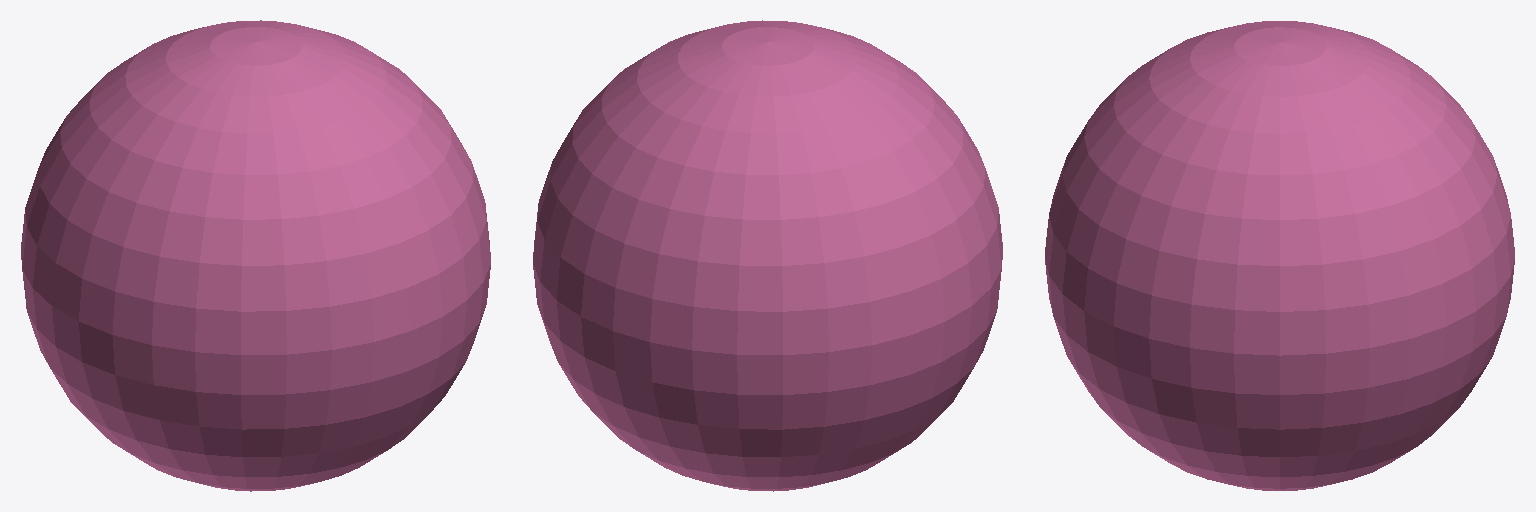
robot.urdf — dummy_arm:
<?xml version="1.0" ?>
<!-- =================================================================================== -->
<!-- |    This document was autogenerated by xacro from ./dummy_arm_full_dof.xacro     | -->
<!-- |    EDITING THIS FILE BY HAND IS NOT RECOMMENDED                                 | -->
<!-- =================================================================================== -->
<robot name="dummy_arm">
  <!-- Create the base link -->
  <link name="arm1_base"/>
  <link name="arm1_linkStart_1"/>
  <link name="arm1_linkEnd_1">
    <visual>
      <geometry>
        <mesh filename="meshes/single_segment.dae" scale="0.0006 0.0006 0.00030000000000000003"/>
      </geometry>
      <origin xyz="0 0 0.015"/>
    </visual>
    <collision>
      <geometry>
        <cylinder length="0.03" radius="0.01"/>
      </geometry>
      <origin xyz="0 0 0.015"/>
    </collision>
    <inertial>
      <mass value="0.09090909090909091"/>
      <inertia ixx="9.090909090909091e-06" ixy="0.0" ixz="0.0" iyy="9.090909090909091e-06" iyz="0.0" izz="4.5454545454545455e-06"/>
    </inertial>
  </link>
  <joint name="arm1_joint0_1" type="revolute">
    <parent link="arm1_base"/>
    <child link="arm1_linkStart_1"/>
    <axis xyz="1 0 0"/>
    <origin rpy="3.141 0 -0.7854" xyz=" 0.0 0.0 0"/>
    <limit effort="10.0" lower="-1.57" upper="1.57" velocity="1.0"/>
  </joint>
  <joint name="arm1_joint1_1" type="revolute">
    <parent link="arm1_linkStart_1"/>
    <child link="arm1_linkEnd_1"/>
    <axis xyz="0 1 0"/>
    <origin rpy="0 0 0" xyz="0 0 0"/>
    <limit effort="10.0" lower="-1.57" upper="1.57" velocity="1.0"/>
  </joint>
  <!-- Create the next link -->
  <link name="arm1_linkEnd_2">
    <visual>
      <geometry>
        <mesh filename="meshes/single_segment.dae" scale="0.0006 0.0006 0.00030000000000000003"/>
      </geometry>
      <origin xyz="0 0 0.015"/>
    </visual>
    <collision>
      <geometry>
        <cylinder length="0.03" radius="0.01"/>
      </geometry>
      <origin xyz="0 0 0.015"/>
    </collision>
    <inertial>
      <mass value="0.09090909090909091"/>
      <inertia ixx="9.090909090909091e-06" ixy="0.0" ixz="0.0" iyy="9.090909090909091e-06" iyz="0.0" izz="4.5454545454545455e-06"/>
    </inertial>
  </link>
  <!-- Create helper Links -->
  <link name="arm1_linkStart_2"/>
  <link name="arm1_linkMid_2"/>
  <!-- Create the prismatic joint -->
  <joint name="arm1_joint0_2" type="prismatic">
    <parent link="arm1_linkEnd_1"/>
    <child link="arm1_linkStart_2"/>
    <axis xyz="0 0 1"/>
    <origin rpy="0 0 0" xyz="0 0 0.03"/>
    <limit effort="10.0" lower="-0.015" upper="0" velocity="1.0"/>
  </joint>
  <!-- Create the revolute first revolute joint -->
  <joint name="arm1_joint1_2" type="revolute">
    <parent link="arm1_linkStart_2"/>
    <child link="arm1_linkMid_2"/>
    <axis xyz="0 1 0"/>
    <origin rpy="0 0 0" xyz="0 0 0"/>
    <limit effort="10.0" lower="-1.57" upper="1.57" velocity="1.0"/>
  </joint>
  <!-- Create the revolute joint -->
  <joint name="arm1_joint2_2" type="revolute">
    <parent link="arm1_linkMid_2"/>
    <child link="arm1_linkEnd_2"/>
    <axis xyz="1 0 0"/>
    <origin rpy="0 0 0" xyz="0 0 0"/>
    <limit effort="10.0" lower="-1.57" upper="1.57" velocity="1.0"/>
  </joint>
  <!-- Create the next link -->
  <link name="arm1_linkEnd_3">
    <visual>
      <geometry>
        <mesh filename="meshes/single_segment.dae" scale="0.0006 0.0006 0.00030000000000000003"/>
      </geometry>
      <origin xyz="0 0 0.015"/>
    </visual>
    <collision>
      <geometry>
        <cylinder length="0.03" radius="0.01"/>
      </geometry>
      <origin xyz="0 0 0.015"/>
    </collision>
    <inertial>
      <mass value="0.09090909090909091"/>
      <inertia ixx="9.090909090909091e-06" ixy="0.0" ixz="0.0" iyy="9.090909090909091e-06" iyz="0.0" izz="4.5454545454545455e-06"/>
    </inertial>
  </link>
  <!-- Create helper Links -->
  <link name="arm1_linkStart_3"/>
  <link name="arm1_linkMid_3"/>
  <!-- Create the prismatic joint -->
  <joint name="arm1_joint0_3" type="prismatic">
    <parent link="arm1_linkEnd_2"/>
    <child link="arm1_linkStart_3"/>
    <axis xyz="0 0 1"/>
    <origin rpy="0 0 0" xyz="0 0 0.03"/>
    <limit effort="10.0" lower="-0.015" upper="0" velocity="1.0"/>
  </joint>
  <!-- Create the revolute first revolute joint -->
  <joint name="arm1_joint1_3" type="revolute">
    <parent link="arm1_linkStart_3"/>
    <child link="arm1_linkMid_3"/>
    <axis xyz="0 1 0"/>
    <origin rpy="0 0 0" xyz="0 0 0"/>
    <limit effort="10.0" lower="-1.57" upper="1.57" velocity="1.0"/>
  </joint>
  <!-- Create the revolute joint -->
  <joint name="arm1_joint2_3" type="revolute">
    <parent link="arm1_linkMid_3"/>
    <child link="arm1_linkEnd_3"/>
    <axis xyz="1 0 0"/>
    <origin rpy="0 0 0" xyz="0 0 0"/>
    <limit effort="10.0" lower="-1.57" upper="1.57" velocity="1.0"/>
  </joint>
  <!-- Create the next link -->
  <link name="arm1_linkEnd_4">
    <visual>
      <geometry>
        <mesh filename="meshes/single_segment.dae" scale="0.0006 0.0006 0.00030000000000000003"/>
      </geometry>
      <origin xyz="0 0 0.015"/>
    </visual>
    <collision>
      <geometry>
        <cylinder length="0.03" radius="0.01"/>
      </geometry>
      <origin xyz="0 0 0.015"/>
    </collision>
    <inertial>
      <mass value="0.09090909090909091"/>
      <inertia ixx="9.090909090909091e-06" ixy="0.0" ixz="0.0" iyy="9.090909090909091e-06" iyz="0.0" izz="4.5454545454545455e-06"/>
    </inertial>
  </link>
  <!-- Create helper Links -->
  <link name="arm1_linkStart_4"/>
  <link name="arm1_linkMid_4"/>
  <!-- Create the prismatic joint -->
  <joint name="arm1_joint0_4" type="prismatic">
    <parent link="arm1_linkEnd_3"/>
    <child link="arm1_linkStart_4"/>
    <axis xyz="0 0 1"/>
    <origin rpy="0 0 0" xyz="0 0 0.03"/>
    <limit effort="10.0" lower="-0.015" upper="0" velocity="1.0"/>
  </joint>
  <!-- Create the revolute first revolute joint -->
  <joint name="arm1_joint1_4" type="revolute">
    <parent link="arm1_linkStart_4"/>
    <child link="arm1_linkMid_4"/>
    <axis xyz="0 1 0"/>
    <origin rpy="0 0 0" xyz="0 0 0"/>
    <limit effort="10.0" lower="-1.57" upper="1.57" velocity="1.0"/>
  </joint>
  <!-- Create the revolute joint -->
  <joint name="arm1_joint2_4" type="revolute">
    <parent link="arm1_linkMid_4"/>
    <child link="arm1_linkEnd_4"/>
    <axis xyz="1 0 0"/>
    <origin rpy="0 0 0" xyz="0 0 0"/>
    <limit effort="10.0" lower="-1.57" upper="1.57" velocity="1.0"/>
  </joint>
  <!-- Create the next link -->
  <link name="arm1_linkEnd_5">
    <visual>
      <geometry>
        <mesh filename="meshes/single_segment.dae" scale="0.0006 0.0006 0.00030000000000000003"/>
      </geometry>
      <origin xyz="0 0 0.015"/>
    </visual>
    <collision>
      <geometry>
        <cylinder length="0.03" radius="0.01"/>
      </geometry>
      <origin xyz="0 0 0.015"/>
    </collision>
    <inertial>
      <mass value="0.09090909090909091"/>
      <inertia ixx="9.090909090909091e-06" ixy="0.0" ixz="0.0" iyy="9.090909090909091e-06" iyz="0.0" izz="4.5454545454545455e-06"/>
    </inertial>
  </link>
  <!-- Create helper Links -->
  <link name="arm1_linkStart_5"/>
  <link name="arm1_linkMid_5"/>
  <!-- Create the prismatic joint -->
  <joint name="arm1_joint0_5" type="prismatic">
    <parent link="arm1_linkEnd_4"/>
    <child link="arm1_linkStart_5"/>
    <axis xyz="0 0 1"/>
    <origin rpy="0 0 0" xyz="0 0 0.03"/>
    <limit effort="10.0" lower="-0.015" upper="0" velocity="1.0"/>
  </joint>
  <!-- Create the revolute first revolute joint -->
  <joint name="arm1_joint1_5" type="revolute">
    <parent link="arm1_linkStart_5"/>
    <child link="arm1_linkMid_5"/>
    <axis xyz="0 1 0"/>
    <origin rpy="0 0 0" xyz="0 0 0"/>
    <limit effort="10.0" lower="-1.57" upper="1.57" velocity="1.0"/>
  </joint>
  <!-- Create the revolute joint -->
  <joint name="arm1_joint2_5" type="revolute">
    <parent link="arm1_linkMid_5"/>
    <child link="arm1_linkEnd_5"/>
    <axis xyz="1 0 0"/>
    <origin rpy="0 0 0" xyz="0 0 0"/>
    <limit effort="10.0" lower="-1.57" upper="1.57" velocity="1.0"/>
  </joint>
  <!-- Create the next link -->
  <link name="arm1_linkEnd_6">
    <visual>
      <geometry>
        <mesh filename="meshes/single_segment.dae" scale="0.0006 0.0006 0.00030000000000000003"/>
      </geometry>
      <origin xyz="0 0 0.015"/>
    </visual>
    <collision>
      <geometry>
        <cylinder length="0.03" radius="0.01"/>
      </geometry>
      <origin xyz="0 0 0.015"/>
    </collision>
    <inertial>
      <mass value="0.09090909090909091"/>
      <inertia ixx="9.090909090909091e-06" ixy="0.0" ixz="0.0" iyy="9.090909090909091e-06" iyz="0.0" izz="4.5454545454545455e-06"/>
    </inertial>
  </link>
  <!-- Create helper Links -->
  <link name="arm1_linkStart_6"/>
  <link name="arm1_linkMid_6"/>
  <!-- Create the prismatic joint -->
  <joint name="arm1_joint0_6" type="prismatic">
    <parent link="arm1_linkEnd_5"/>
    <child link="arm1_linkStart_6"/>
    <axis xyz="0 0 1"/>
    <origin rpy="0 0 0" xyz="0 0 0.03"/>
    <limit effort="10.0" lower="-0.015" upper="0" velocity="1.0"/>
  </joint>
  <!-- Create the revolute first revolute joint -->
  <joint name="arm1_joint1_6" type="revolute">
    <parent link="arm1_linkStart_6"/>
    <child link="arm1_linkMid_6"/>
    <axis xyz="0 1 0"/>
    <origin rpy="0 0 0" xyz="0 0 0"/>
    <limit effort="10.0" lower="-1.57" upper="1.57" velocity="1.0"/>
  </joint>
  <!-- Create the revolute joint -->
  <joint name="arm1_joint2_6" type="revolute">
    <parent link="arm1_linkMid_6"/>
    <child link="arm1_linkEnd_6"/>
    <axis xyz="1 0 0"/>
    <origin rpy="0 0 0" xyz="0 0 0"/>
    <limit effort="10.0" lower="-1.57" upper="1.57" velocity="1.0"/>
  </joint>
  <!-- Create the next link -->
  <link name="arm1_linkEnd_7">
    <visual>
      <geometry>
        <mesh filename="meshes/single_segment.dae" scale="0.0006 0.0006 0.00030000000000000003"/>
      </geometry>
      <origin xyz="0 0 0.015"/>
    </visual>
    <collision>
      <geometry>
        <cylinder length="0.03" radius="0.01"/>
      </geometry>
      <origin xyz="0 0 0.015"/>
    </collision>
    <inertial>
      <mass value="0.09090909090909091"/>
      <inertia ixx="9.090909090909091e-06" ixy="0.0" ixz="0.0" iyy="9.090909090909091e-06" iyz="0.0" izz="4.5454545454545455e-06"/>
    </inertial>
  </link>
  <!-- Create helper Links -->
  <link name="arm1_linkStart_7"/>
  <link name="arm1_linkMid_7"/>
  <!-- Create the prismatic joint -->
  <joint name="arm1_joint0_7" type="prismatic">
    <parent link="arm1_linkEnd_6"/>
    <child link="arm1_linkStart_7"/>
    <axis xyz="0 0 1"/>
    <origin rpy="0 0 0" xyz="0 0 0.03"/>
    <limit effort="10.0" lower="-0.015" upper="0" velocity="1.0"/>
  </joint>
  <!-- Create the revolute first revolute joint -->
  <joint name="arm1_joint1_7" type="revolute">
    <parent link="arm1_linkStart_7"/>
    <child link="arm1_linkMid_7"/>
    <axis xyz="0 1 0"/>
    <origin rpy="0 0 0" xyz="0 0 0"/>
    <limit effort="10.0" lower="-1.57" upper="1.57" velocity="1.0"/>
  </joint>
  <!-- Create the revolute joint -->
  <joint name="arm1_joint2_7" type="revolute">
    <parent link="arm1_linkMid_7"/>
    <child link="arm1_linkEnd_7"/>
    <axis xyz="1 0 0"/>
    <origin rpy="0 0 0" xyz="0 0 0"/>
    <limit effort="10.0" lower="-1.57" upper="1.57" velocity="1.0"/>
  </joint>
  <!-- Create the next link -->
  <link name="arm1_linkEnd_8">
    <visual>
      <geometry>
        <mesh filename="meshes/single_segment.dae" scale="0.0006 0.0006 0.00030000000000000003"/>
      </geometry>
      <origin xyz="0 0 0.015"/>
    </visual>
    <collision>
      <geometry>
        <cylinder length="0.03" radius="0.01"/>
      </geometry>
      <origin xyz="0 0 0.015"/>
    </collision>
    <inertial>
      <mass value="0.09090909090909091"/>
      <inertia ixx="9.090909090909091e-06" ixy="0.0" ixz="0.0" iyy="9.090909090909091e-06" iyz="0.0" izz="4.5454545454545455e-06"/>
    </inertial>
  </link>
  <!-- Create helper Links -->
  <link name="arm1_linkStart_8"/>
  <link name="arm1_linkMid_8"/>
  <!-- Create the prismatic joint -->
  <joint name="arm1_joint0_8" type="prismatic">
    <parent link="arm1_linkEnd_7"/>
    <child link="arm1_linkStart_8"/>
    <axis xyz="0 0 1"/>
    <origin rpy="0 0 0" xyz="0 0 0.03"/>
    <limit effort="10.0" lower="-0.015" upper="0" velocity="1.0"/>
  </joint>
  <!-- Create the revolute first revolute joint -->
  <joint name="arm1_joint1_8" type="revolute">
    <parent link="arm1_linkStart_8"/>
    <child link="arm1_linkMid_8"/>
    <axis xyz="0 1 0"/>
    <origin rpy="0 0 0" xyz="0 0 0"/>
    <limit effort="10.0" lower="-1.57" upper="1.57" velocity="1.0"/>
  </joint>
  <!-- Create the revolute joint -->
  <joint name="arm1_joint2_8" type="revolute">
    <parent link="arm1_linkMid_8"/>
    <child link="arm1_linkEnd_8"/>
    <axis xyz="1 0 0"/>
    <origin rpy="0 0 0" xyz="0 0 0"/>
    <limit effort="10.0" lower="-1.57" upper="1.57" velocity="1.0"/>
  </joint>
  <!-- Create the next link -->
  <link name="arm1_linkEnd_9">
    <visual>
      <geometry>
        <mesh filename="meshes/single_segment.dae" scale="0.0006 0.0006 0.00030000000000000003"/>
      </geometry>
      <origin xyz="0 0 0.015"/>
    </visual>
    <collision>
      <geometry>
        <cylinder length="0.03" radius="0.01"/>
      </geometry>
      <origin xyz="0 0 0.015"/>
    </collision>
    <inertial>
      <mass value="0.09090909090909091"/>
      <inertia ixx="9.090909090909091e-06" ixy="0.0" ixz="0.0" iyy="9.090909090909091e-06" iyz="0.0" izz="4.5454545454545455e-06"/>
    </inertial>
  </link>
  <!-- Create helper Links -->
  <link name="arm1_linkStart_9"/>
  <link name="arm1_linkMid_9"/>
  <!-- Create the prismatic joint -->
  <joint name="arm1_joint0_9" type="prismatic">
    <parent link="arm1_linkEnd_8"/>
    <child link="arm1_linkStart_9"/>
    <axis xyz="0 0 1"/>
    <origin rpy="0 0 0" xyz="0 0 0.03"/>
    <limit effort="10.0" lower="-0.015" upper="0" velocity="1.0"/>
  </joint>
  <!-- Create the revolute first revolute joint -->
  <joint name="arm1_joint1_9" type="revolute">
    <parent link="arm1_linkStart_9"/>
    <child link="arm1_linkMid_9"/>
    <axis xyz="0 1 0"/>
    <origin rpy="0 0 0" xyz="0 0 0"/>
    <limit effort="10.0" lower="-1.57" upper="1.57" velocity="1.0"/>
  </joint>
  <!-- Create the revolute joint -->
  <joint name="arm1_joint2_9" type="revolute">
    <parent link="arm1_linkMid_9"/>
    <child link="arm1_linkEnd_9"/>
    <axis xyz="1 0 0"/>
    <origin rpy="0 0 0" xyz="0 0 0"/>
    <limit effort="10.0" lower="-1.57" upper="1.57" velocity="1.0"/>
  </joint>
  <!-- Create the next link -->
  <link name="arm1_linkEnd_10">
    <visual>
      <geometry>
        <mesh filename="meshes/single_segment.dae" scale="0.0006 0.0006 0.00030000000000000003"/>
      </geometry>
      <origin xyz="0 0 0.015"/>
    </visual>
    <collision>
      <geometry>
        <cylinder length="0.03" radius="0.01"/>
      </geometry>
      <origin xyz="0 0 0.015"/>
    </collision>
    <inertial>
      <mass value="0.09090909090909091"/>
      <inertia ixx="9.090909090909091e-06" ixy="0.0" ixz="0.0" iyy="9.090909090909091e-06" iyz="0.0" izz="4.5454545454545455e-06"/>
    </inertial>
  </link>
  <!-- Create helper Links -->
  <link name="arm1_linkStart_10"/>
  <link name="arm1_linkMid_10"/>
  <!-- Create the prismatic joint -->
  <joint name="arm1_joint0_10" type="prismatic">
    <parent link="arm1_linkEnd_9"/>
    <child link="arm1_linkStart_10"/>
    <axis xyz="0 0 1"/>
    <origin rpy="0 0 0" xyz="0 0 0.03"/>
    <limit effort="10.0" lower="-0.015" upper="0" velocity="1.0"/>
  </joint>
  <!-- Create the revolute first revolute joint -->
  <joint name="arm1_joint1_10" type="revolute">
    <parent link="arm1_linkStart_10"/>
    <child link="arm1_linkMid_10"/>
    <axis xyz="0 1 0"/>
    <origin rpy="0 0 0" xyz="0 0 0"/>
    <limit effort="10.0" lower="-1.57" upper="1.57" velocity="1.0"/>
  </joint>
  <!-- Create the revolute joint -->
  <joint name="arm1_joint2_10" type="revolute">
    <parent link="arm1_linkMid_10"/>
    <child link="arm1_linkEnd_10"/>
    <axis xyz="1 0 0"/>
    <origin rpy="0 0 0" xyz="0 0 0"/>
    <limit effort="10.0" lower="-1.57" upper="1.57" velocity="1.0"/>
  </joint>
  <link name="arm1_sphere">
    <visual>
      <geometry>
        <sphere radius="0.01"/>
      </geometry>
      <origin xyz="0 0 0.01"/>
    </visual>
    <collision>
      <geometry>
        <sphere radius="0.01"/>
      </geometry>
      <origin xyz="0 0 0.01"/>
    </collision>
    <inertial>
      <mass value="0.09090909090909091"/>
      <inertia ixx="3.6363636363636366e-06" ixy="0.0" ixz="0.0" iyy="3.6363636363636366e-06" iyz="0.0" izz="3.6363636363636366e-06"/>
    </inertial>
  </link>
  <joint name="arm1_fixed_joint_sphere" type="fixed">
    <parent link="arm1_linkEnd_10"/>
    <child link="arm1_sphere"/>
    <origin rpy="0 0 0" xyz="0 0 0.019999999999999997"/>
  </joint>
</robot>

--- What the picture shows (computed from the rendered views, not written in the file) ---
3 views of the same robot in one strip: view 1: azimuth 30°, elevation 25°; view 2: azimuth 150°, elevation 25°; view 3: azimuth 270°, elevation 25° (orthographic).
Model dummy_arm with 31 links and 30 joints (20 revolute, 9 prismatic, 1 fixed), rooted at arm1_base, posed all joints at 0.
Links seen in each view (by area): view 1: arm1_sphere; view 2: arm1_sphere; view 3: arm1_sphere.
Link boxes in pixels (<box>): arm1_sphere: <box>21,20,490,491</box>; arm1_sphere: <box>533,20,1002,491</box>; arm1_sphere: <box>1045,21,1514,490</box>.
Bounding box of the posed robot: 0.02 × 0.02 × 0.02 m (x, y, z).
Meshes: 1 distinct files referenced, 0 mesh visuals loaded (none loaded); not drawn: 10 (reference not matched to a file when rendering).